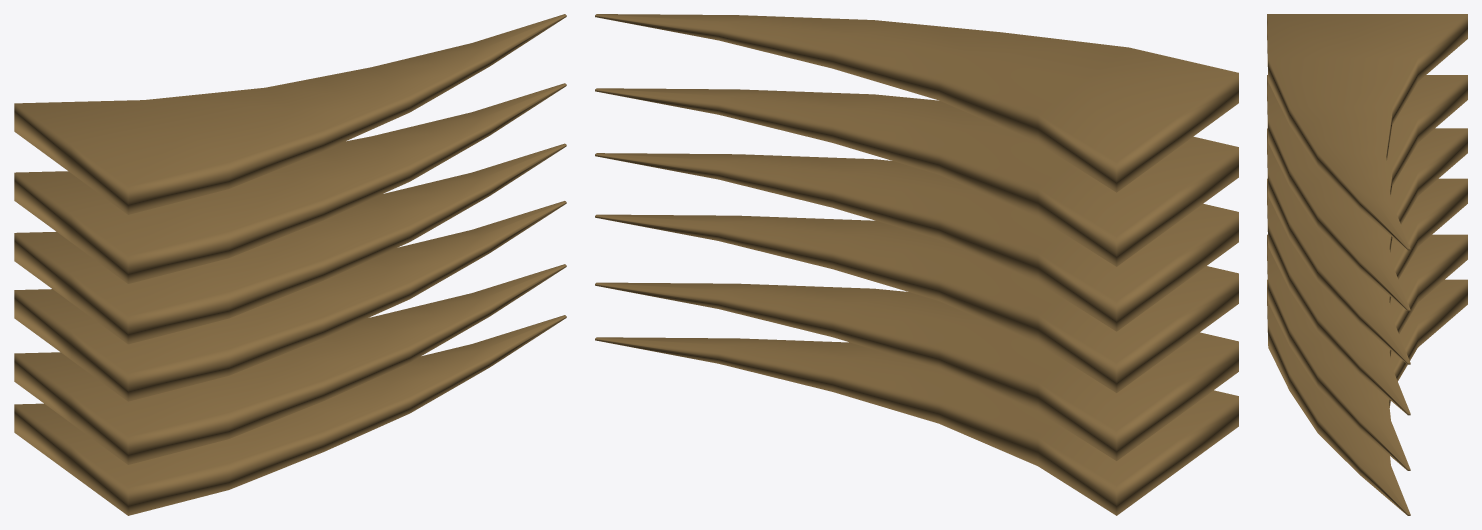
The model's file is trampa_dientes.fbx.
The picture shows the model from 3 angles, left to right: view 1: azimuth 30°, elevation 25°; view 2: azimuth 150°, elevation 25°; view 3: azimuth 270°, elevation 25°; orthographic projection. The views are drawn at different scales.
Visible parts, largest first — view 1: partedificil1:trampa_dientes_izquierda; view 2: partedificil1:trampa_dientes_izquierda; view 3: partedificil1:trampa_dientes_izquierda.
Part boxes in pixels (<box>): partedificil1:trampa_dientes_izquierda: <box>14,14,566,515</box>; partedificil1:trampa_dientes_izquierda: <box>595,14,1238,515</box>; partedificil1:trampa_dientes_izquierda: <box>1267,14,1467,515</box>.
Bounding box in the file's own units: 176 × 107 × 66.86.
